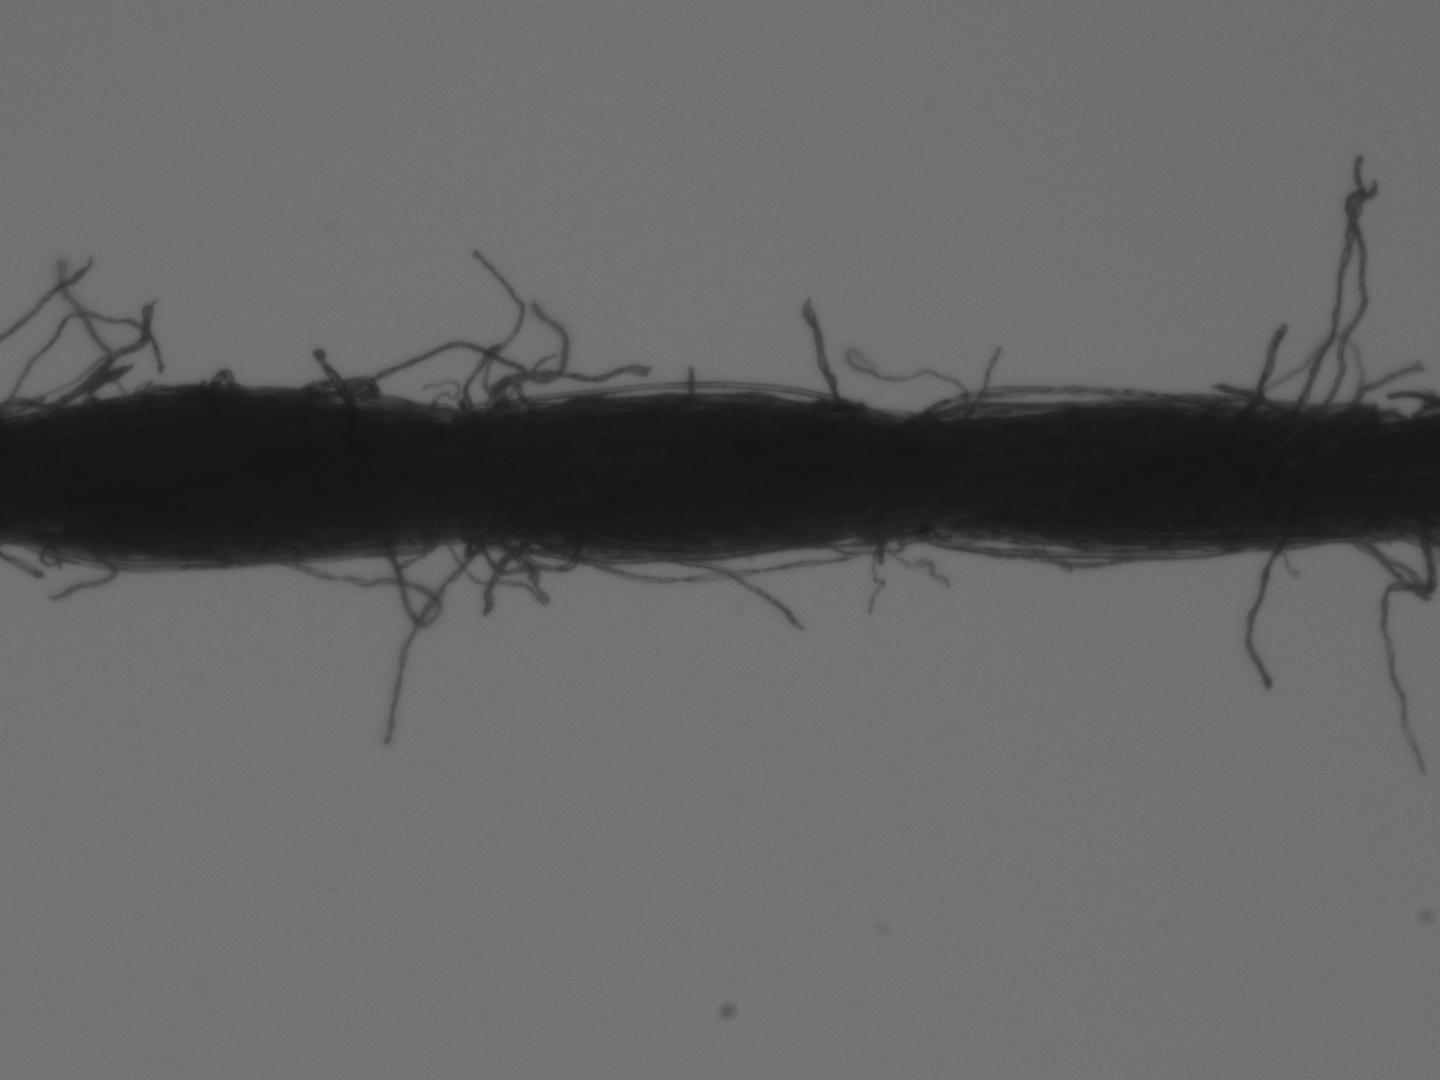loop_fiber: (576, 537, 855, 588), (1350, 535, 1428, 604), (469, 539, 579, 581), (924, 403, 1065, 423), (302, 373, 375, 400), (204, 368, 229, 382)
protruding_fiber: (375, 541, 488, 751), (1240, 545, 1288, 694), (1240, 326, 1284, 411), (801, 302, 835, 398), (683, 366, 689, 395)
